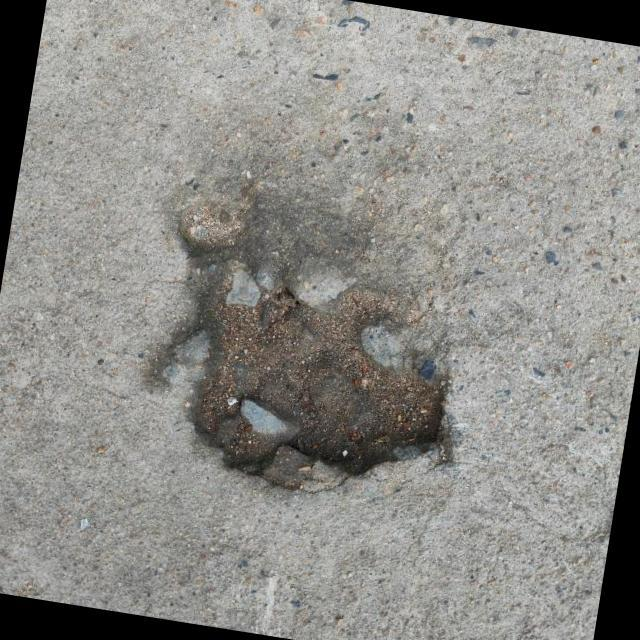Pothole: (147, 203, 454, 494)
